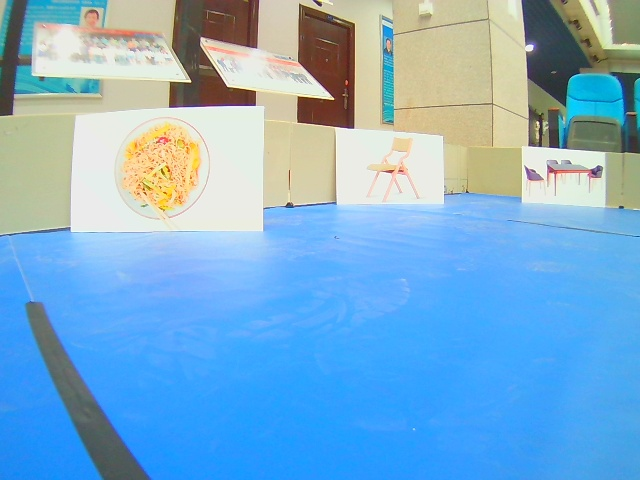food: (73, 105, 266, 232)
table: (335, 128, 446, 209), (521, 146, 608, 209)
